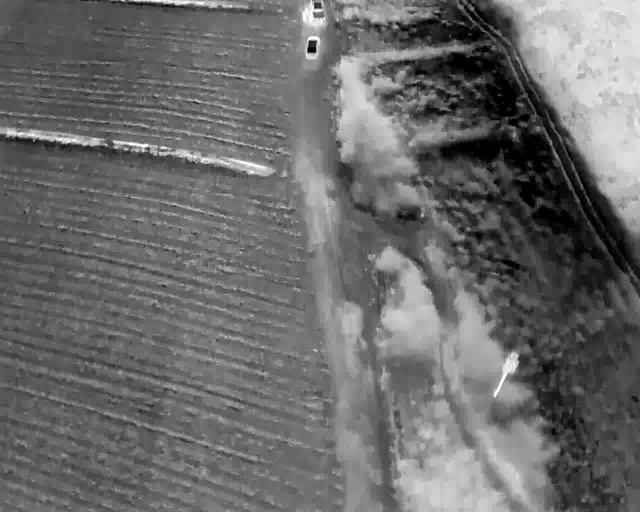car: (306, 35, 320, 59)
